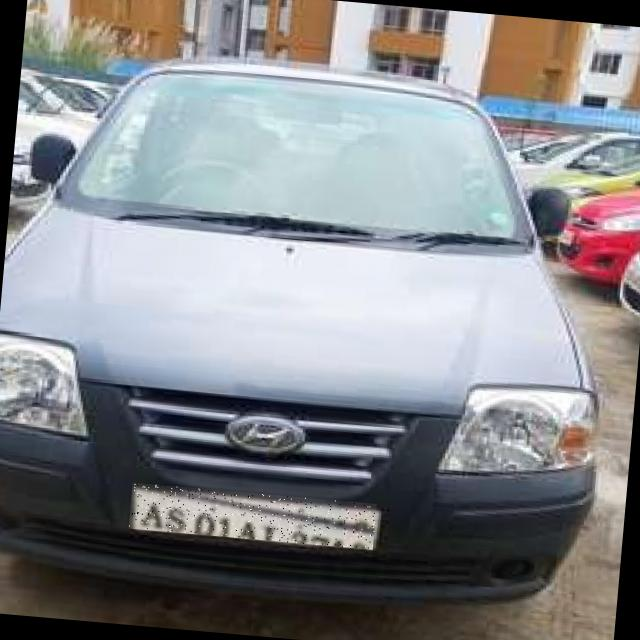Plate: (129, 484, 377, 551)
